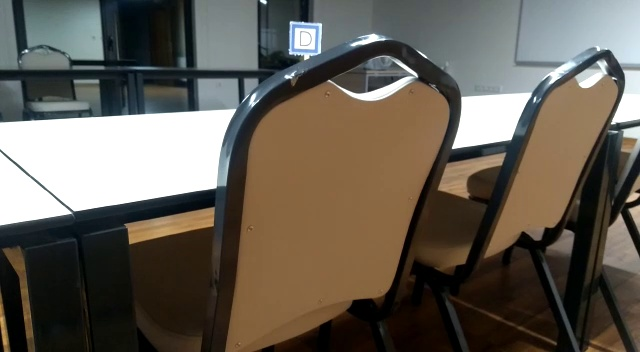durak: (289, 22, 320, 57)
